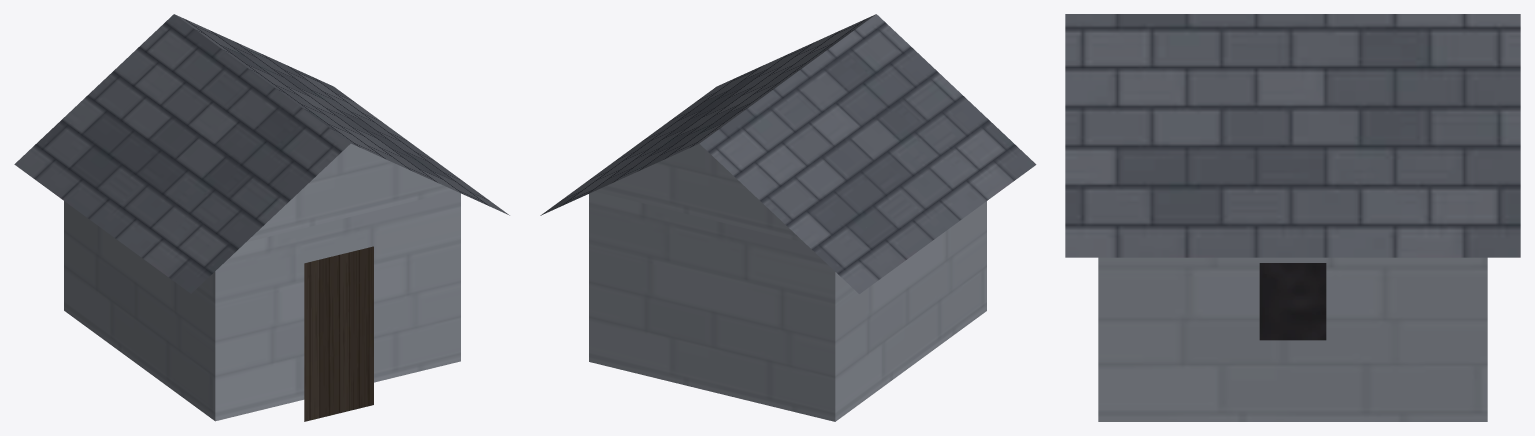
The model's file is ae_snow_stone_small_hut_lod2.glb.
The picture shows the model from 3 angles, left to right: view 1: azimuth 30°, elevation 25°; view 2: azimuth 150°, elevation 25°; view 3: azimuth 270°, elevation 25°; orthographic projection. The views are drawn at different scales.
Visible parts, largest first — view 1: ae_snow_stone_small_hut_lod2; view 2: ae_snow_stone_small_hut_lod2; view 3: ae_snow_stone_small_hut_lod2.
Part boxes in pixels (left/top/right/bottom): ae_snow_stone_small_hut_lod2: left=14, top=14, right=509, bottom=421; ae_snow_stone_small_hut_lod2: left=540, top=14, right=1036, bottom=421; ae_snow_stone_small_hut_lod2: left=1065, top=14, right=1520, bottom=421.
Bounding box in the file's own units: 3.9 × 3.25 × 3.74.
1 material, 1 textured.
